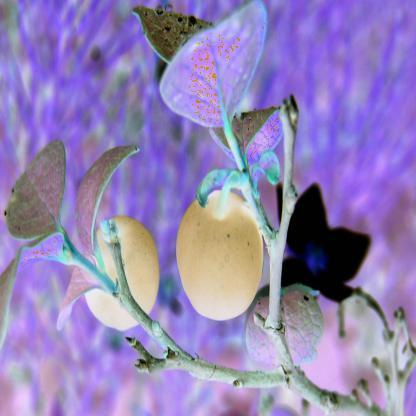Blueberry leaf: (127, 0, 268, 136), (72, 138, 140, 250), (6, 131, 70, 247)
